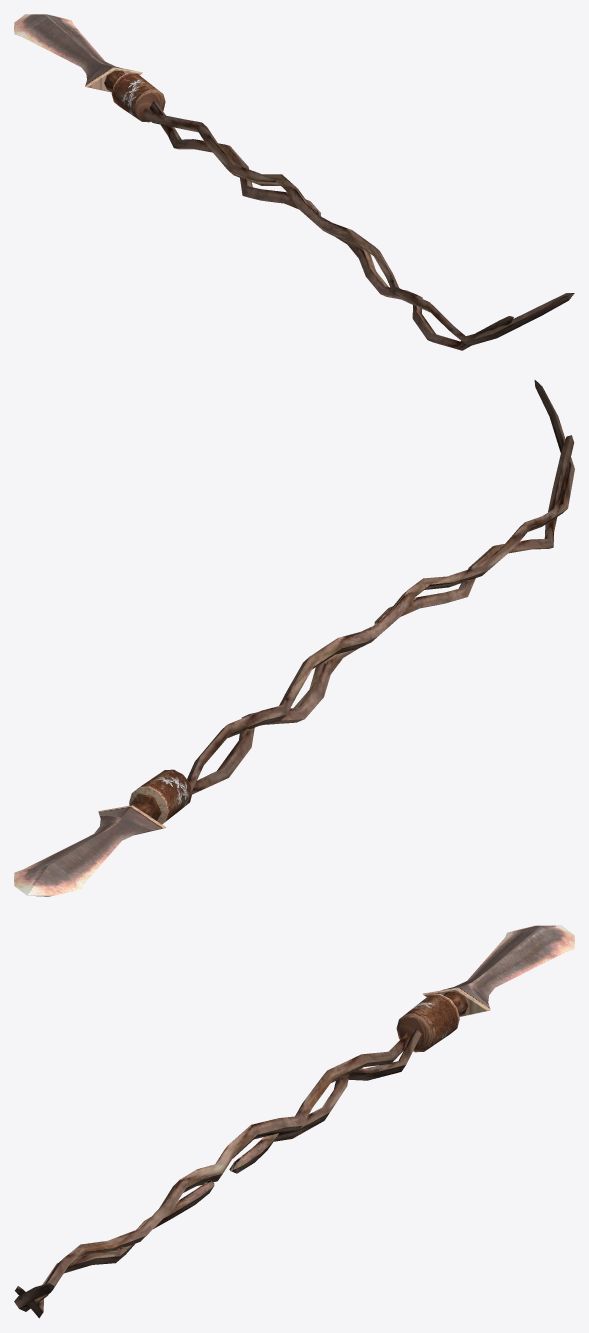
File: spear_mokuren1_mokuren1.glb
3 renders of one model, top to bottom at view 1: azimuth 30°, elevation 25°; view 2: azimuth 150°, elevation 25°; view 3: azimuth 330°, elevation 25°, orthographic. The views are drawn at different scales.
Bounding box in the file's own units: 0.3076 × 0.287 × 2.96.
Materials: 1 (1 with a texture image).
